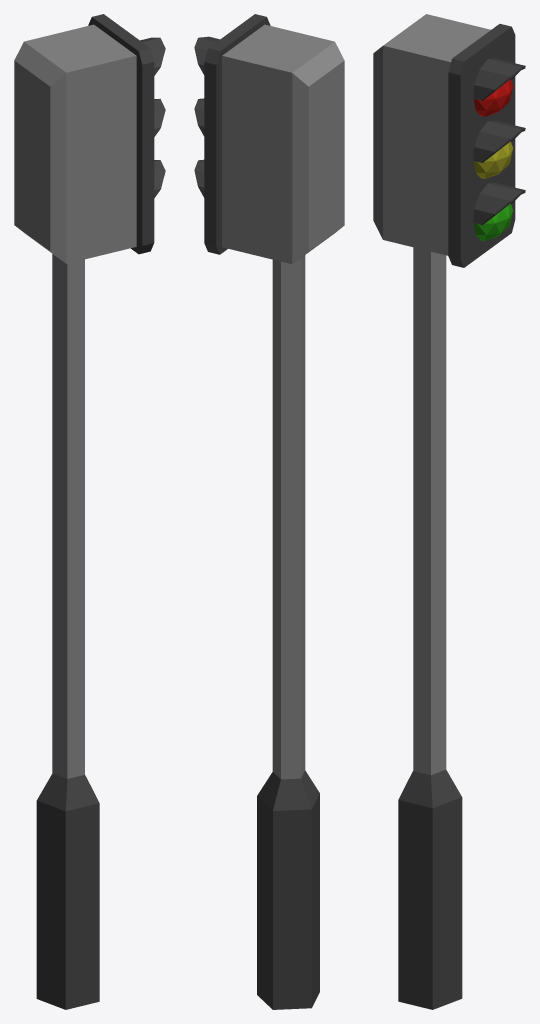
The model's file is TrafficLight.glb.
3 renders of one model, left to right at view 1: azimuth 30°, elevation 25°; view 2: azimuth 150°, elevation 25°; view 3: azimuth 330°, elevation 25°, orthographic.
Visible parts, largest first — view 1: TrafficLight_Cylinder.006; view 2: TrafficLight_Cylinder.006; view 3: TrafficLight_Cylinder.006.
Boxes of the visible parts, <box> form: TrafficLight_Cylinder.006: <box>14,14,165,1009</box>; TrafficLight_Cylinder.006: <box>194,14,344,1009</box>; TrafficLight_Cylinder.006: <box>373,14,525,1009</box>.
Size of the model in its own units: 0.123 by 0.8709 by 0.0896.
